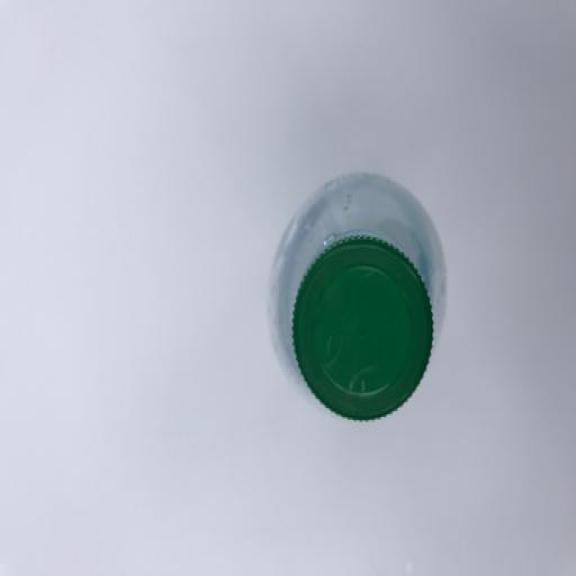Plastik: (266, 171, 450, 425)
